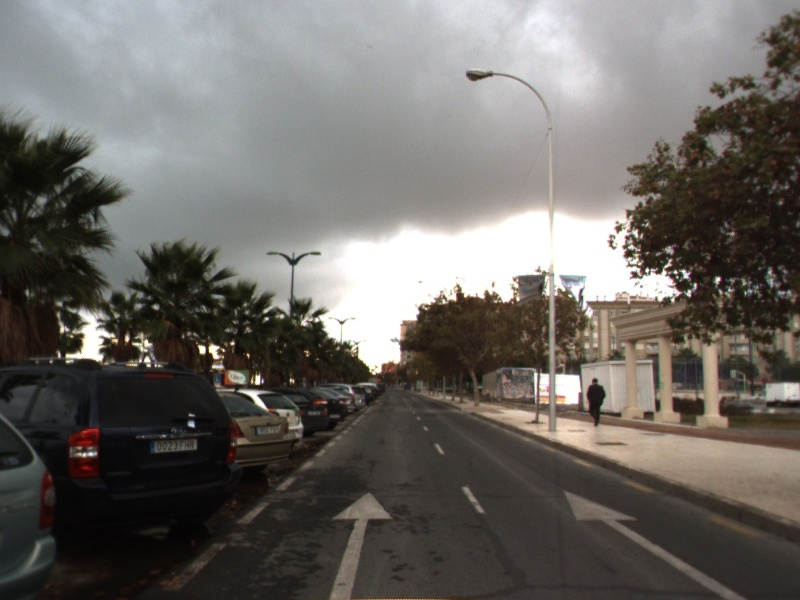STRAIGHT: (562, 487, 745, 600), (330, 490, 395, 600)
